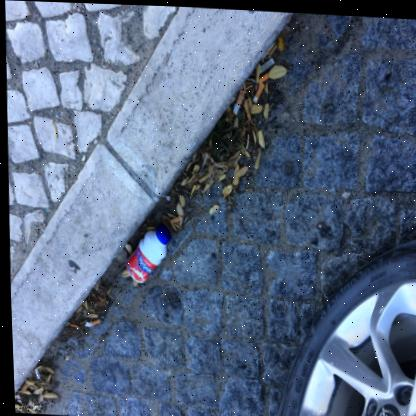Plastic: (122, 222, 168, 281)
Waste: (231, 87, 243, 112), (250, 81, 263, 102), (154, 222, 168, 241), (258, 55, 273, 71), (81, 317, 97, 326), (257, 69, 267, 82), (167, 213, 179, 223), (66, 322, 77, 328), (30, 369, 36, 378)
